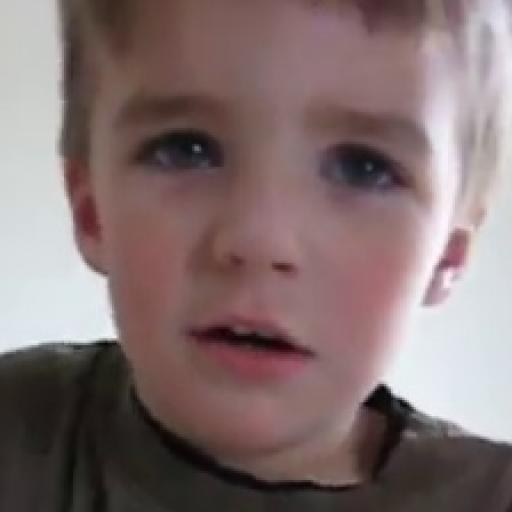Autism: (68, 0, 512, 420)
